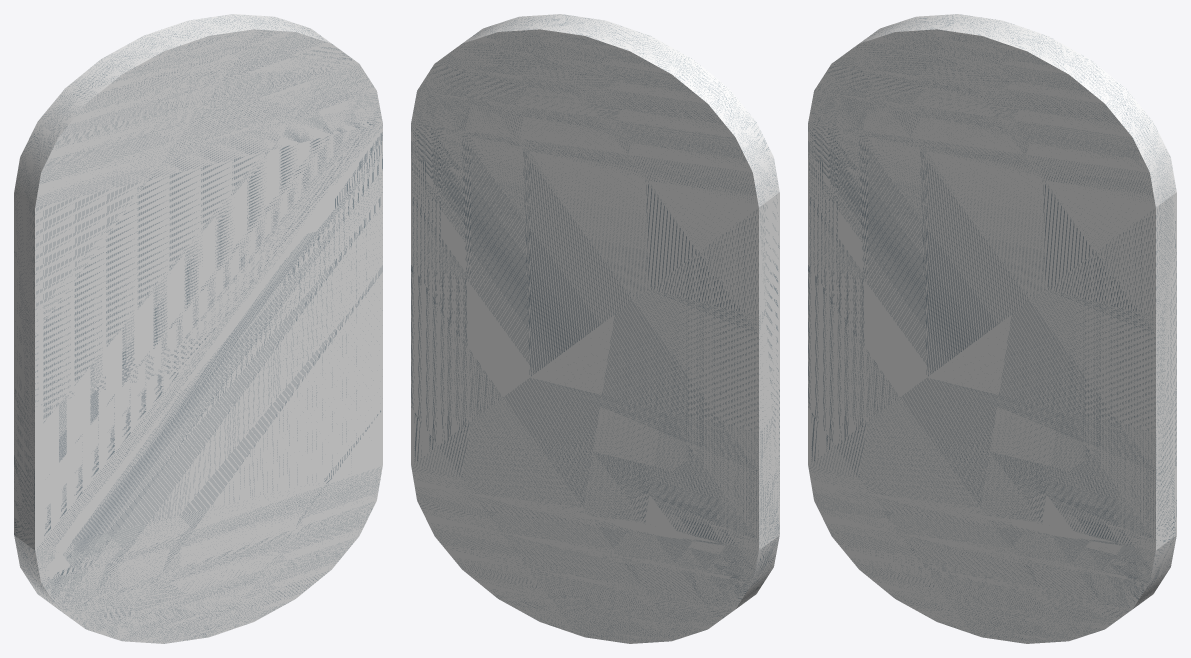
Rendered from senti-mesh-sad-4.dae.
3 renders of one model, left to right at view 1: azimuth 30°, elevation 25°; view 2: azimuth 150°, elevation 25°; view 3: azimuth 330°, elevation 25°, orthographic.
Parts seen in each view (by area): view 1: group_0; view 2: group_0; view 3: group_0.
Part boxes in pixels (<box>): group_0: <box>14,14,382,643</box>; group_0: <box>411,14,779,643</box>; group_0: <box>808,14,1176,643</box>.
Size of the model in its own units: 9.52 by 0.9962 by 15.74.
